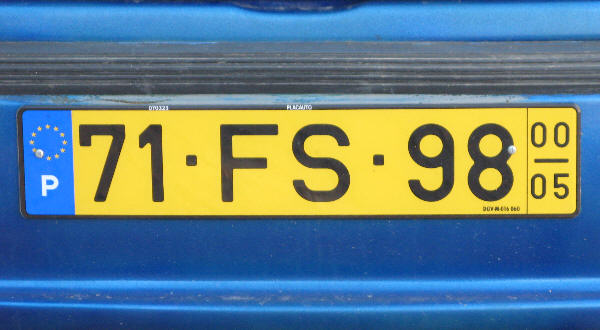license_plate: (17, 107, 579, 217)
